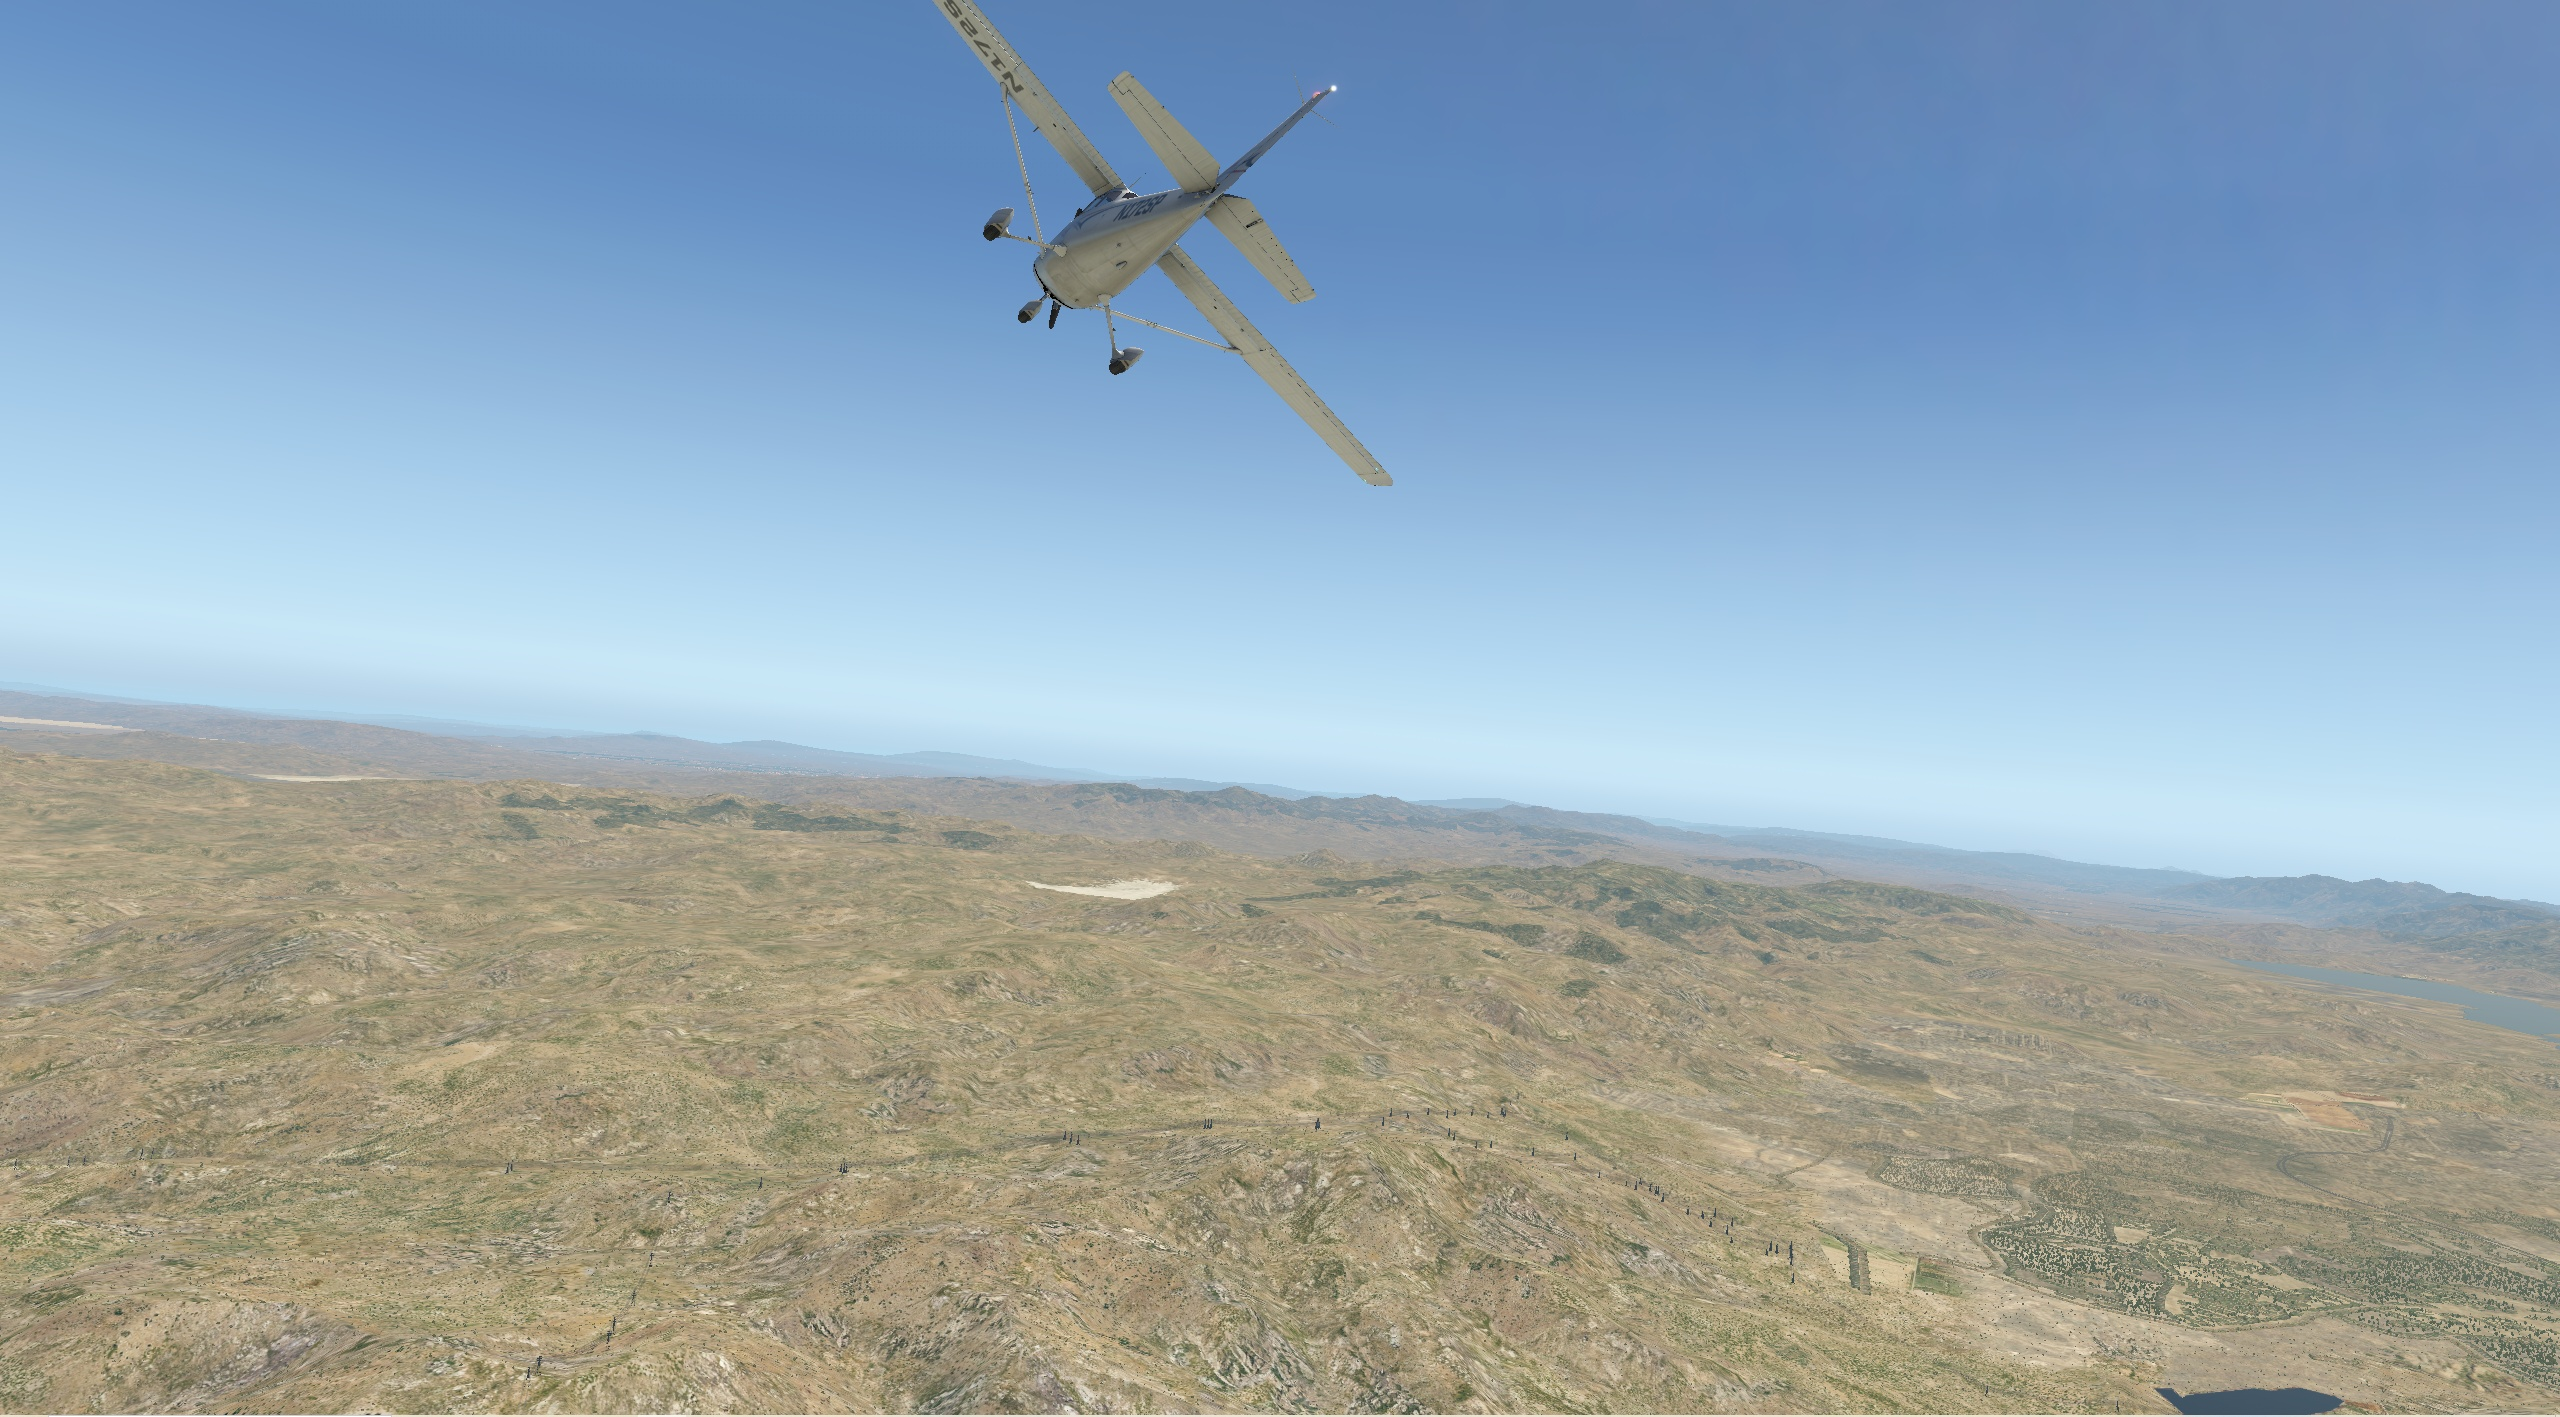aircraft: (679, 87, 1534, 407)
